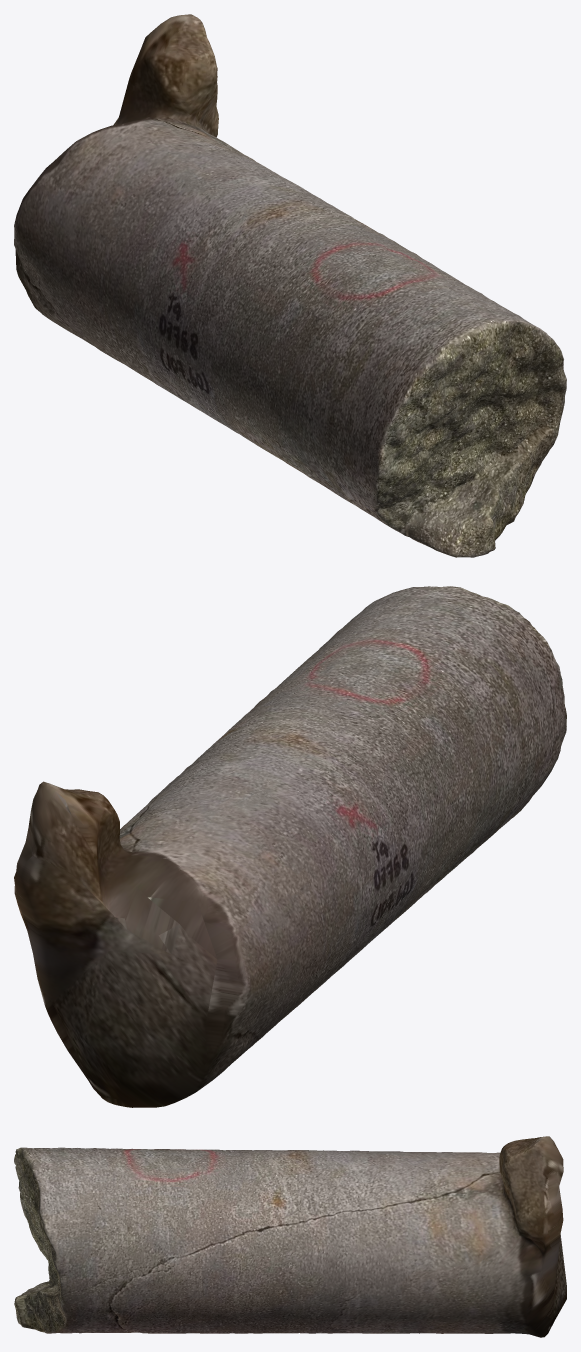
The model's file is PECLD07758 T9.glb.
The picture shows the model from 3 angles, top to bottom: view 1: azimuth 30°, elevation 25°; view 2: azimuth 150°, elevation 25°; view 3: azimuth 270°, elevation 25°; orthographic projection. The views are drawn at different scales.
Parts seen in each view (by area): view 1: baked_mesh; view 2: baked_mesh; view 3: baked_mesh.
Boxes of the visible parts, box(x1,y1,x2,y2) form: baked_mesh: box(14, 14, 566, 557); baked_mesh: box(14, 586, 566, 1107); baked_mesh: box(14, 1136, 566, 1337).
Size of the model in its own units: 0.2099 by 0.2451 by 0.5584.
Materials: 1 (1 with a texture image).
